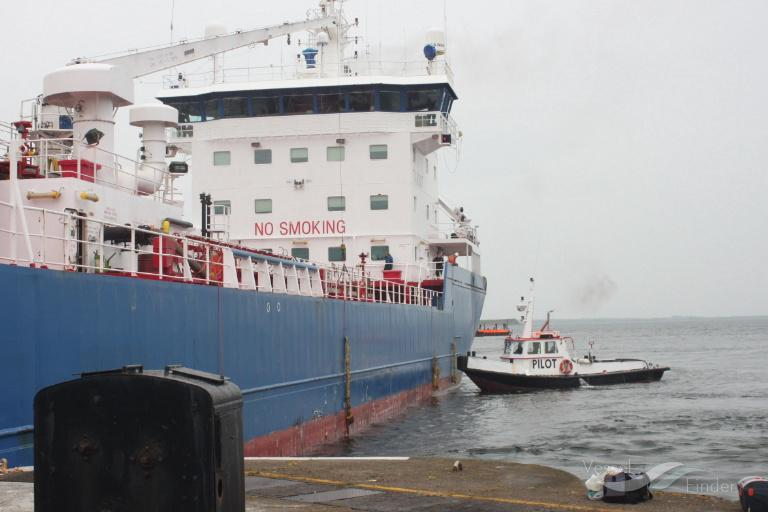OCR: (527, 354, 559, 374)
